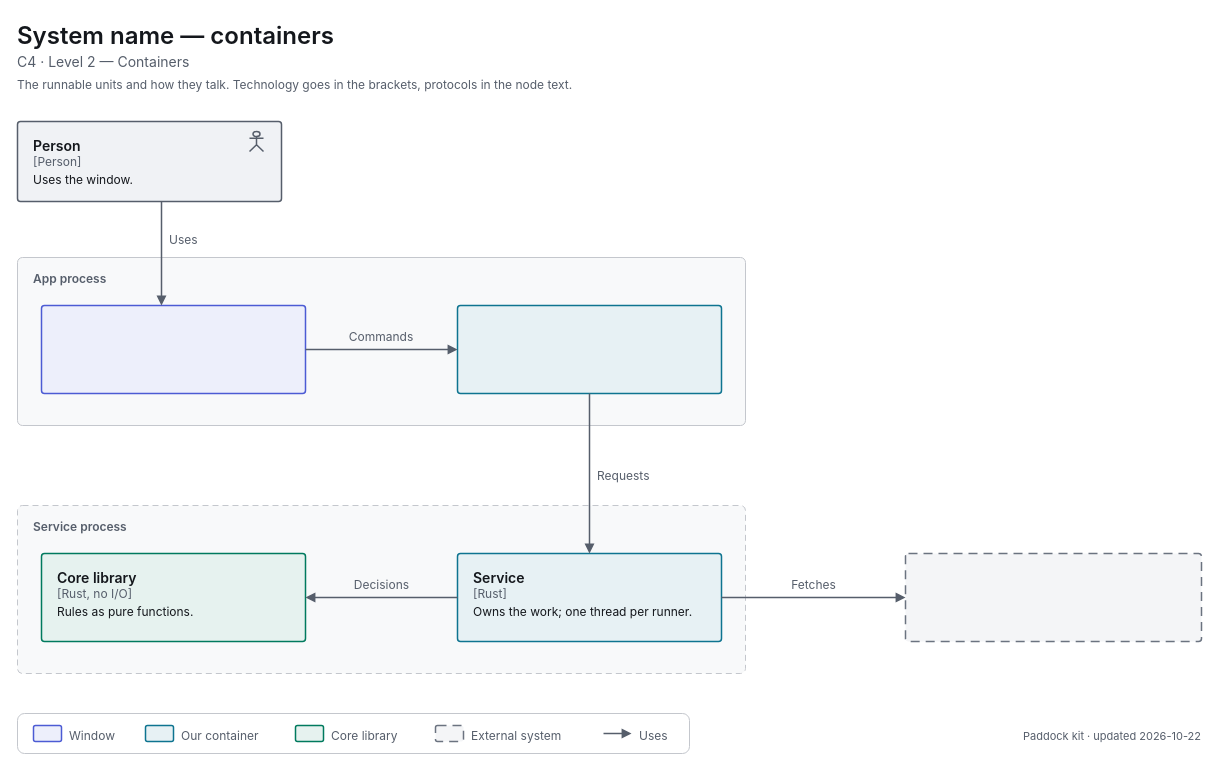
The diagram is 1220 pixels wide and 771 high, and some of its shapes have lost their labels. Each missing label, with the centre of its shape:
"External system [HTTPS] Who or what the service calls." belongs at (1053,597).
"Shell [Rust] Validates every argument, then calls the service." belongs at (589,349).
"Window [Web UI] Shows state, sends commands." belongs at (173,349).
